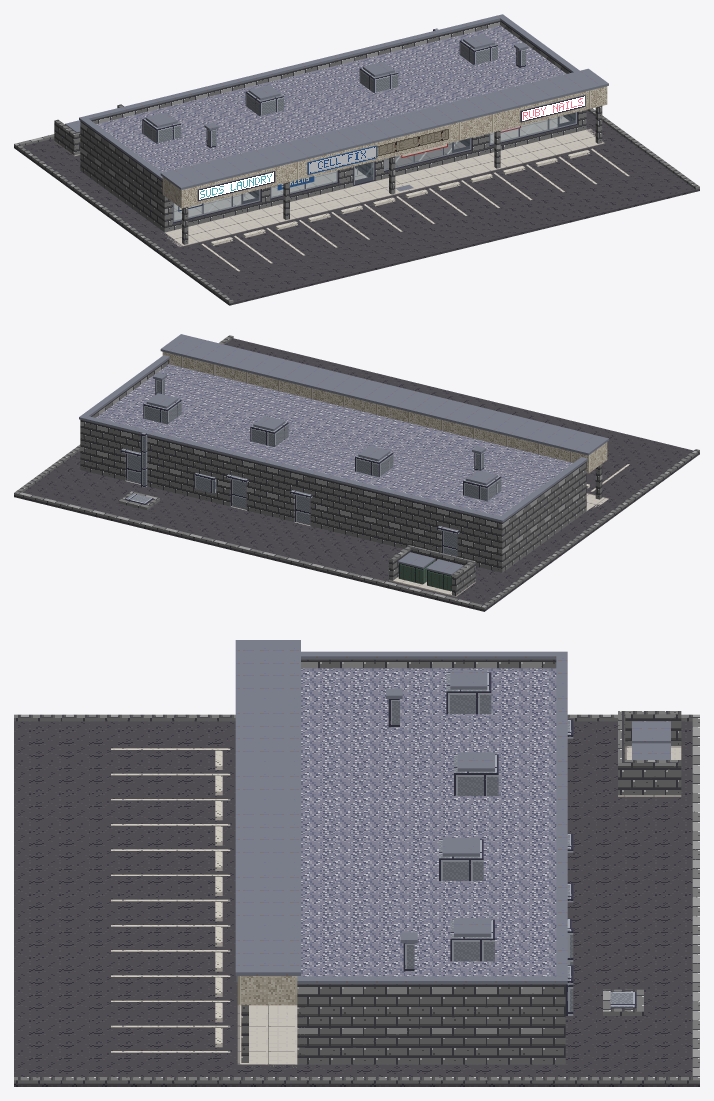
File: reel-time-video-2020.glb
3 views of the same model, one above another, from view 1: azimuth 30°, elevation 25°; view 2: azimuth 150°, elevation 25°; view 3: azimuth 270°, elevation 25° (orthographic). The views are drawn at different scales.
Parts seen in each view (by area): view 1: structure, lot, parking_lot, rear_service; view 2: structure, lot, rear_service; view 3: structure, lot, rear_service, parking_lot.
Part boxes in pixels (left/top/right/bottom): structure: left=79, top=14, right=608, bottom=244; lot: left=14, top=108, right=699, bottom=305; parking_lot: left=201, top=148, right=629, bottom=271; rear_service: left=54, top=28, right=438, bottom=156; structure: left=79, top=334, right=608, bottom=572; lot: left=14, top=335, right=699, bottom=611; rear_service: left=118, top=433, right=475, bottom=596; structure: left=235, top=640, right=573, bottom=1064; lot: left=14, top=714, right=699, bottom=1086; rear_service: left=565, top=711, right=681, bottom=1015; parking_lot: left=111, top=748, right=230, bottom=1052.
Size of what is drawn, in the model's own units: 36.01 by 4.97 by 28.56.
Materials: 11 (11 with a texture image).
